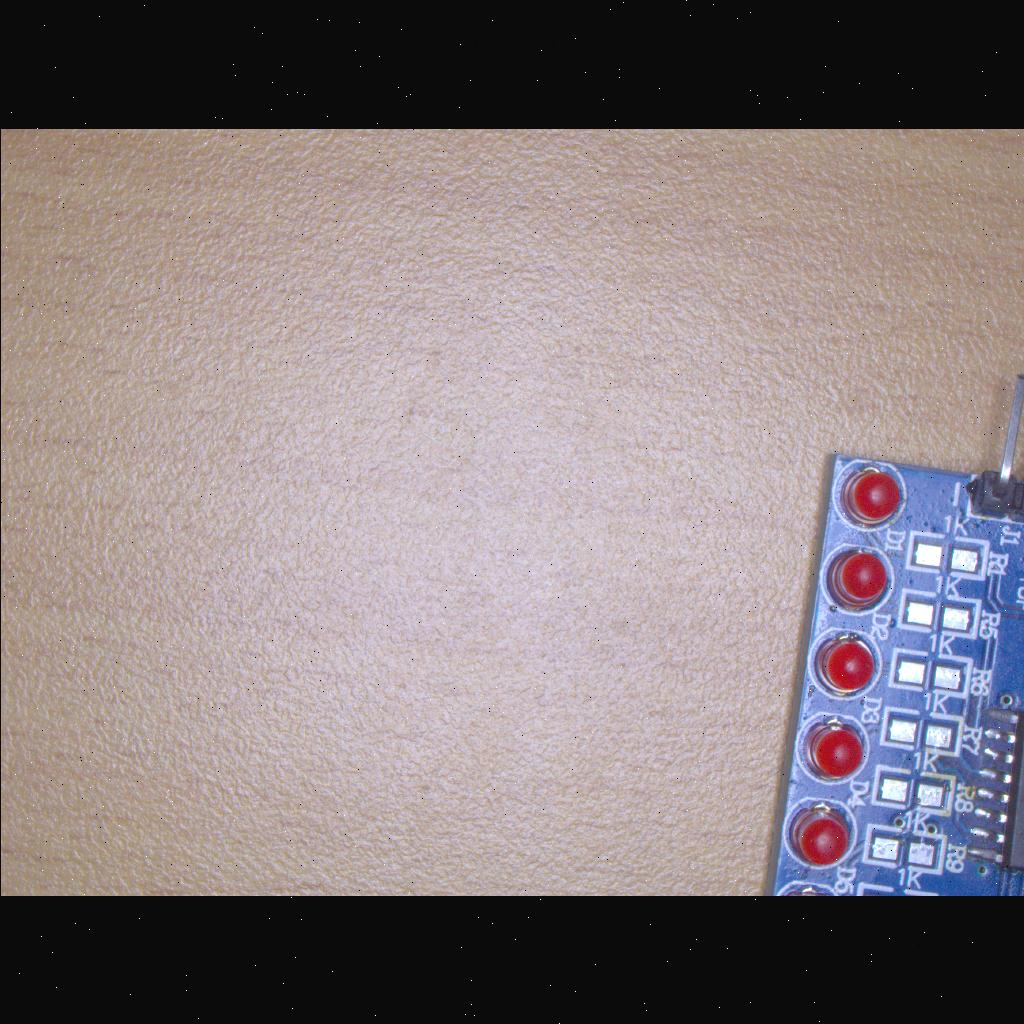NG: (865, 759, 955, 817), (900, 527, 992, 583), (892, 584, 984, 640), (859, 820, 947, 878), (874, 704, 964, 758), (882, 646, 972, 698), (848, 880, 944, 896)
OK: (956, 700, 1024, 880)
